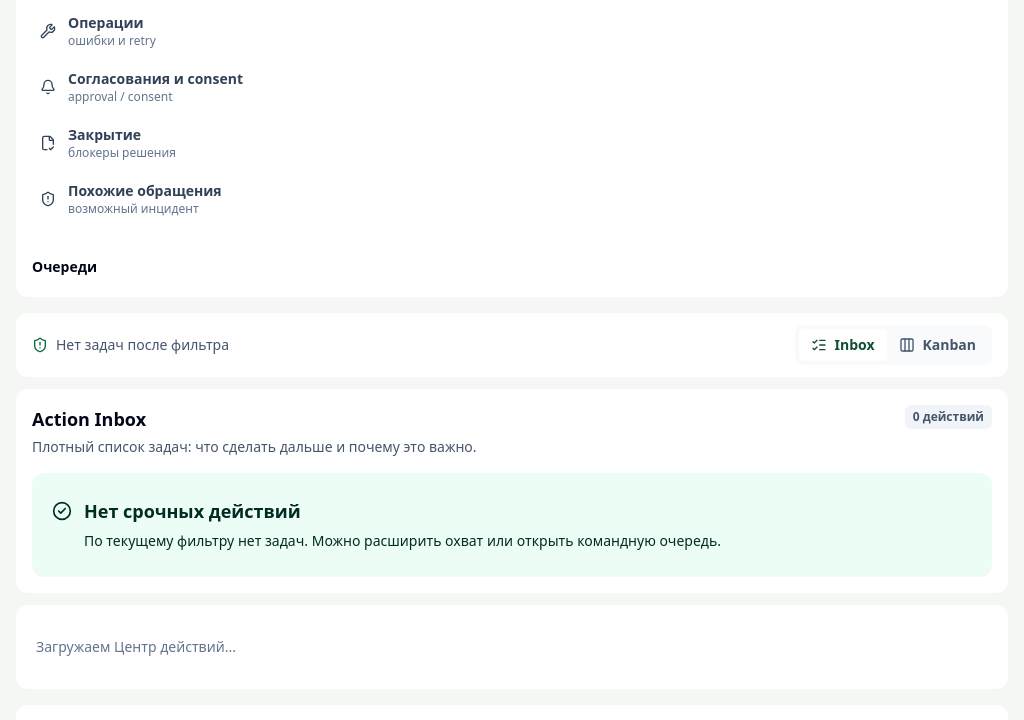
Test case: SupportCommandCenterPage › Kanban mode renders grouped columns
(page scrolled)
Click the button "Kanban" at (937, 345), box [886,329,988,361]
(page scrolled)
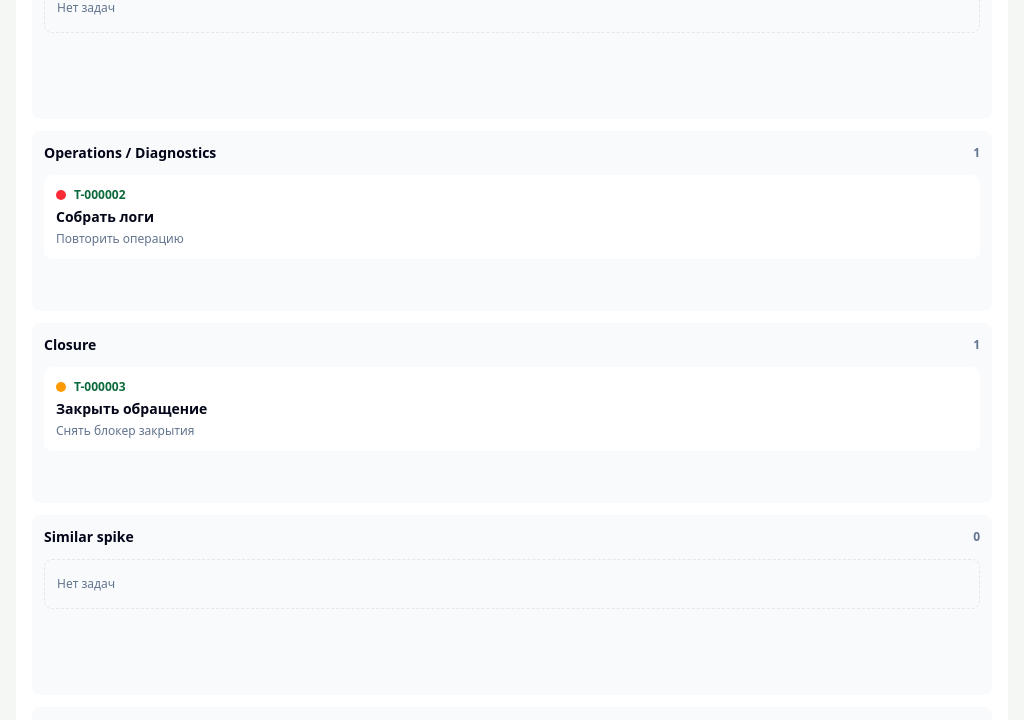
Check: the heading "Operations / Diagnostics" is shown, box [44,143,216,163]
Check: the heading "Closure" is shown, box [44,335,96,355]
